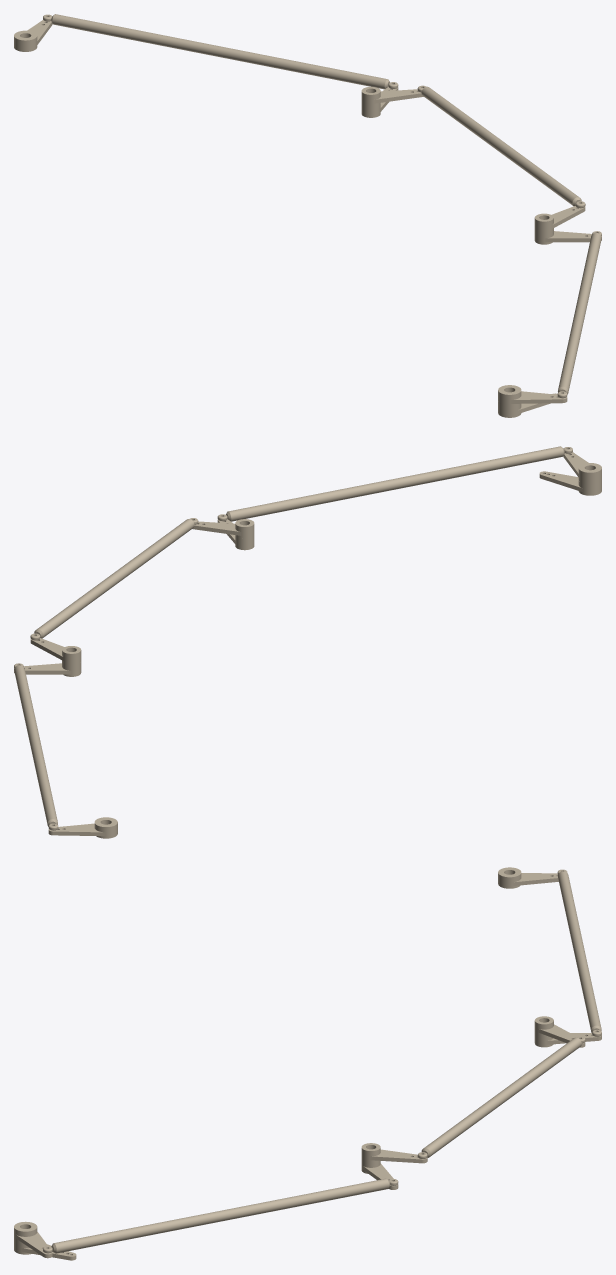
Rendered from CONTROL__STEERING__STEERING COMPONENTS__tillers & draglinks.glb.
The picture shows the model from 3 angles, top to bottom: view 1: azimuth 30°, elevation 25°; view 2: azimuth 150°, elevation 25°; view 3: azimuth 330°, elevation 25°; orthographic projection.
Visible parts, largest first — view 1: tillers & draglinks, Imported 15 (×3), Imported 20; view 2: tillers & draglinks, Imported 15 (×4), Imported 20; view 3: tillers & draglinks, Imported 15 (×3), Imported 20.
Boxes of the visible parts, x1=… form: tillers & draglinks: x1=51, y1=14, x2=601, y2=394; Imported 15 (×3): x1=14, y1=20, x2=567, y2=406; Imported 20: x1=361, y1=87, x2=421, y2=105; tillers & draglinks: x1=14, y1=446, x2=564, y2=826; Imported 15 (×4): x1=48, y1=453, x2=601, y2=838; Imported 20: x1=194, y1=519, x2=254, y2=537; tillers & draglinks: x1=51, y1=871, x2=601, y2=1253; Imported 15 (×3): x1=14, y1=867, x2=558, y2=1257; Imported 20: x1=361, y1=1143, x2=426, y2=1163.
Size of the model in its own units: 1.36 by 0.191 by 4.91.
